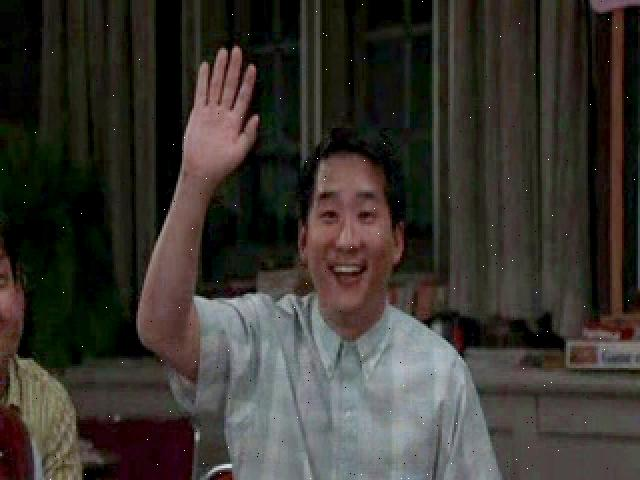T: (100, 38, 520, 480)
